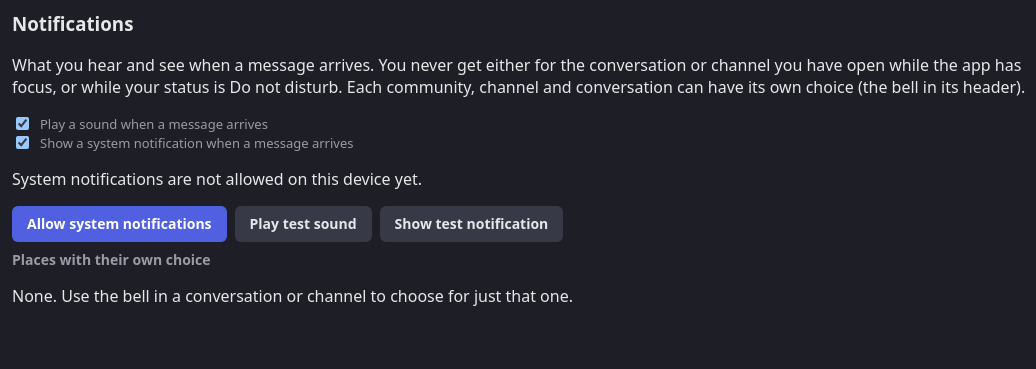
Test case: Settings -> Notifications › the test buttons › says it was blocked when the person refuses
The width and height of the screenshot is (1036, 369).
Expected: the text "System notifications are not allowed on this device yet." is shown, [12,168,422,190]
Click the button "Show test notification": (471, 224) [380,206,563,242]
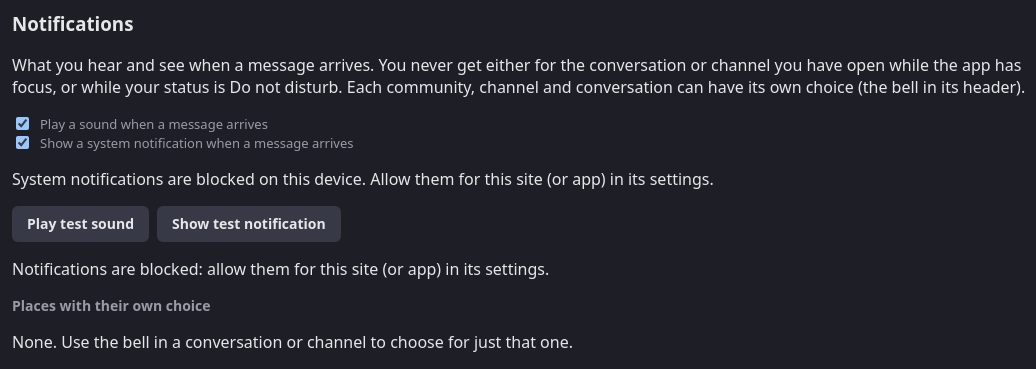
Now the text "Notifications are blocked: allow them for this site (or app) in its settings." is shown, box [12,258,549,280]
